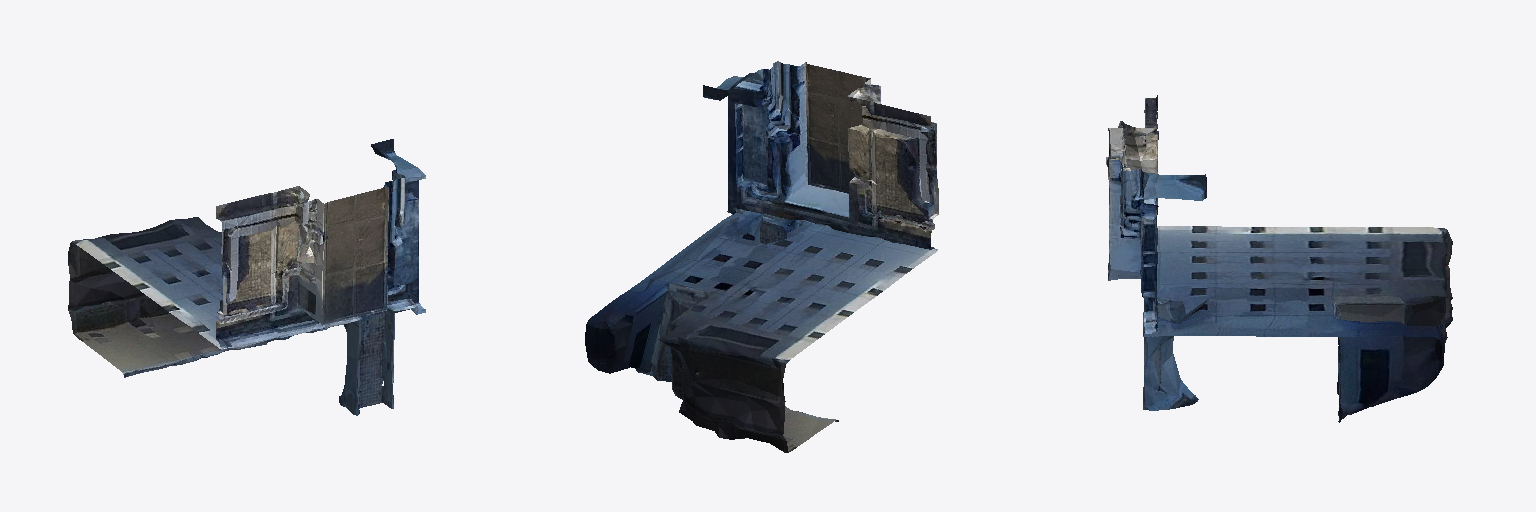
3 views of the same model, side by side, from view 1: azimuth 30°, elevation 25°; view 2: azimuth 150°, elevation 25°; view 3: azimuth 270°, elevation 25° (orthographic).
Visible parts, largest first — view 1: obj_0; view 2: obj_0; view 3: obj_0.
Part boxes in pixels (x1,y1,x2,y2): obj_0: (68, 139, 425, 415); obj_0: (585, 61, 938, 452); obj_0: (1106, 95, 1452, 422).
Size of the model in its own units: 20.08 by 22.53 by 29.67.
Materials: 1 (1 with a texture image).